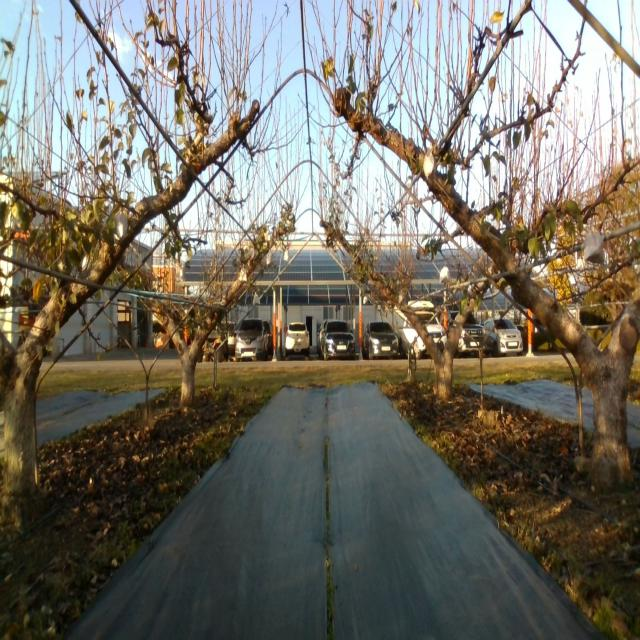pearbags: (583, 228, 605, 266), (113, 210, 128, 245), (423, 151, 436, 183), (438, 266, 451, 286)
